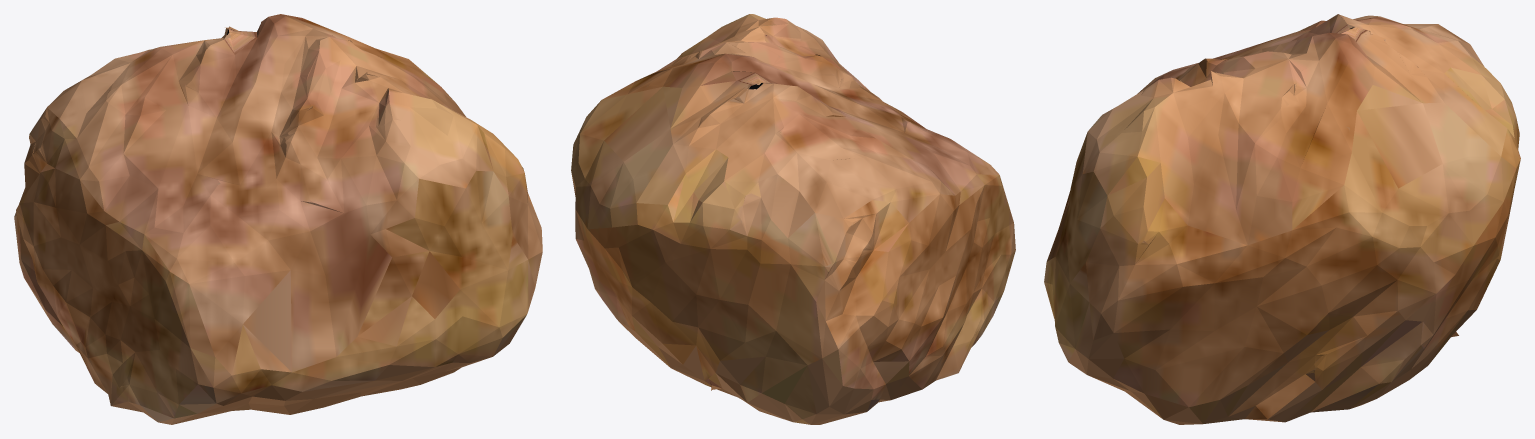
The model's file is Rock1.glb.
The picture shows the model from 3 angles, left to right: view 1: azimuth 30°, elevation 25°; view 2: azimuth 150°, elevation 25°; view 3: azimuth 270°, elevation 25°; orthographic projection. The views are drawn at different scales.
Visible parts, largest first — view 1: model_New Qlone.001; view 2: model_New Qlone.001; view 3: model_New Qlone.001.
Boxes of the visible parts, left/top/right/bottom form: model_New Qlone.001: left=14, top=14, right=542, bottom=424; model_New Qlone.001: left=571, top=14, right=1015, bottom=424; model_New Qlone.001: left=1044, top=14, right=1520, bottom=424.
Size of the model in its own units: 38.74 by 30.51 by 39.44.
1 material, 1 textured.
